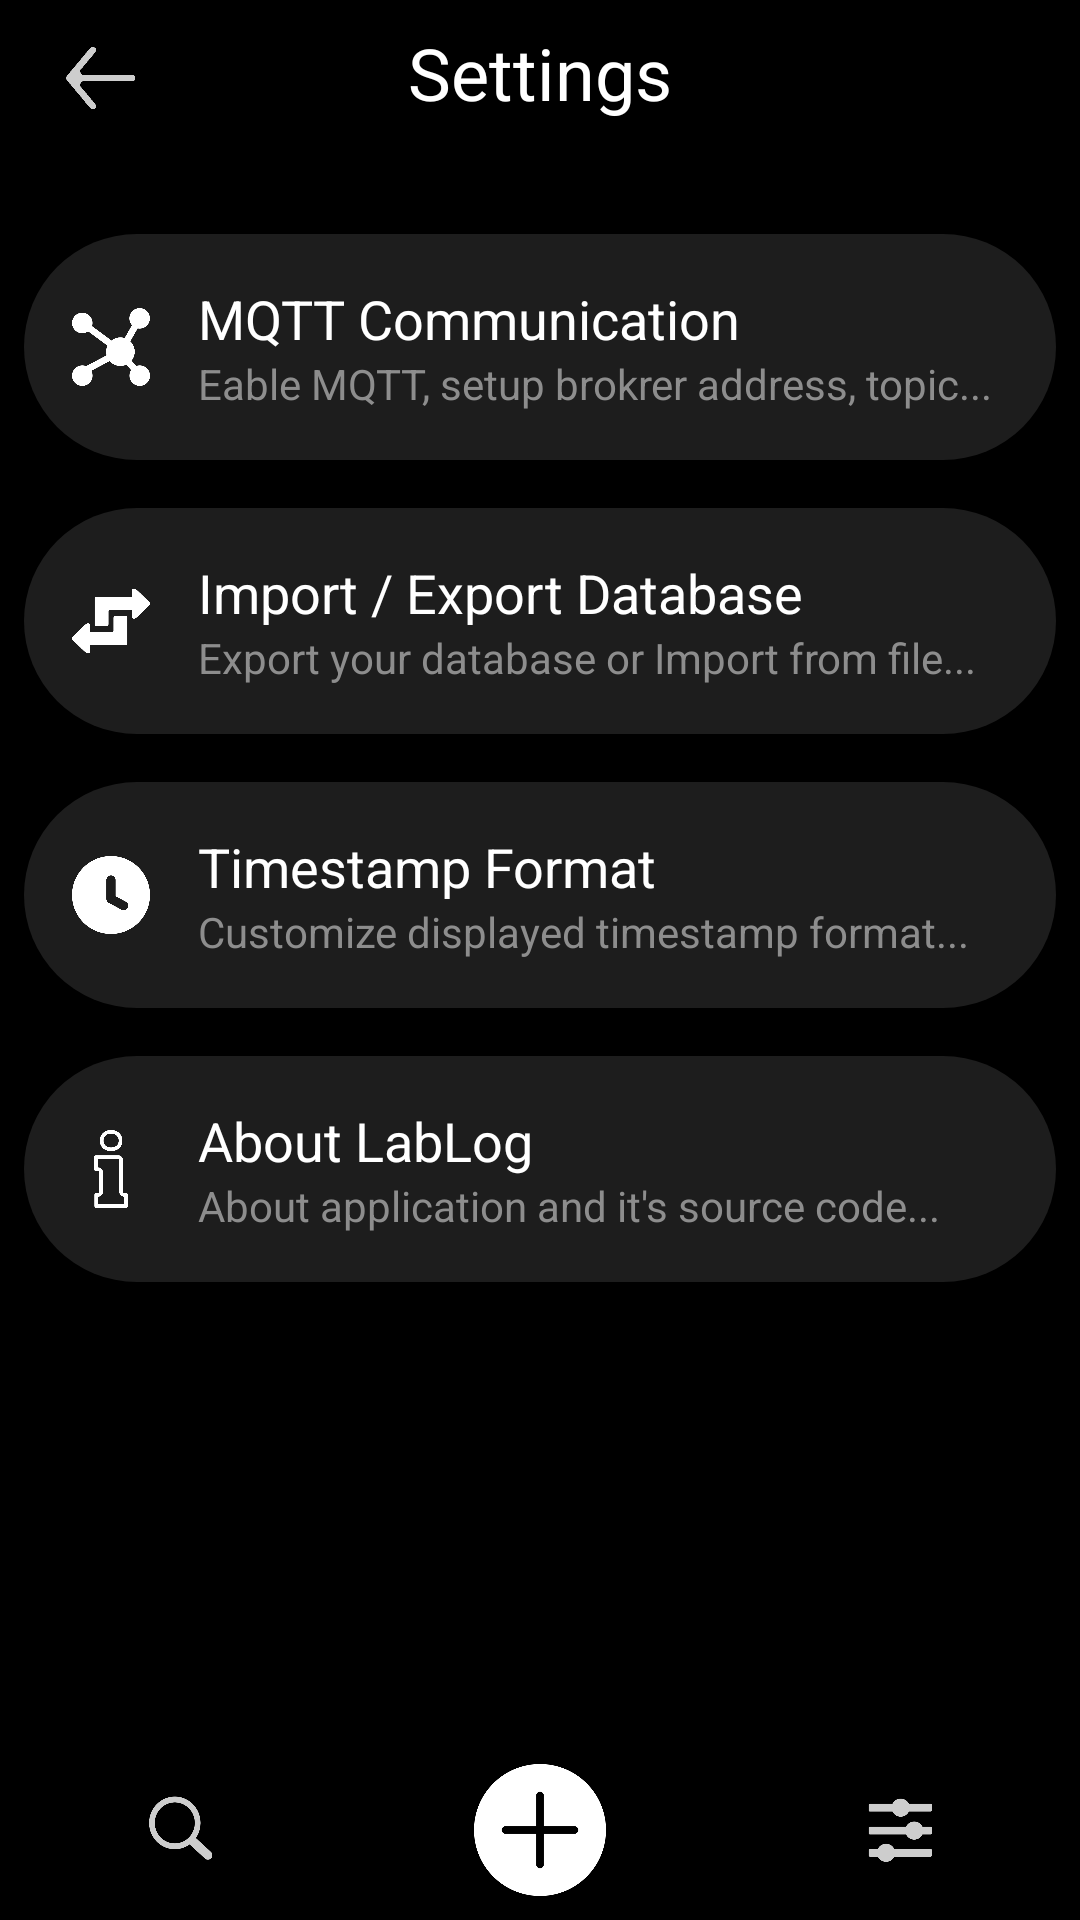

Where icons sit on this 1080 x 1920 app screen, as (x1, y1, x2, y2):
back icon: (66, 47, 135, 109)
info: (94, 1130, 128, 1208)
iot: (72, 308, 150, 386)
search icon: (149, 1796, 212, 1860)
settings icon: (869, 1799, 932, 1862)
